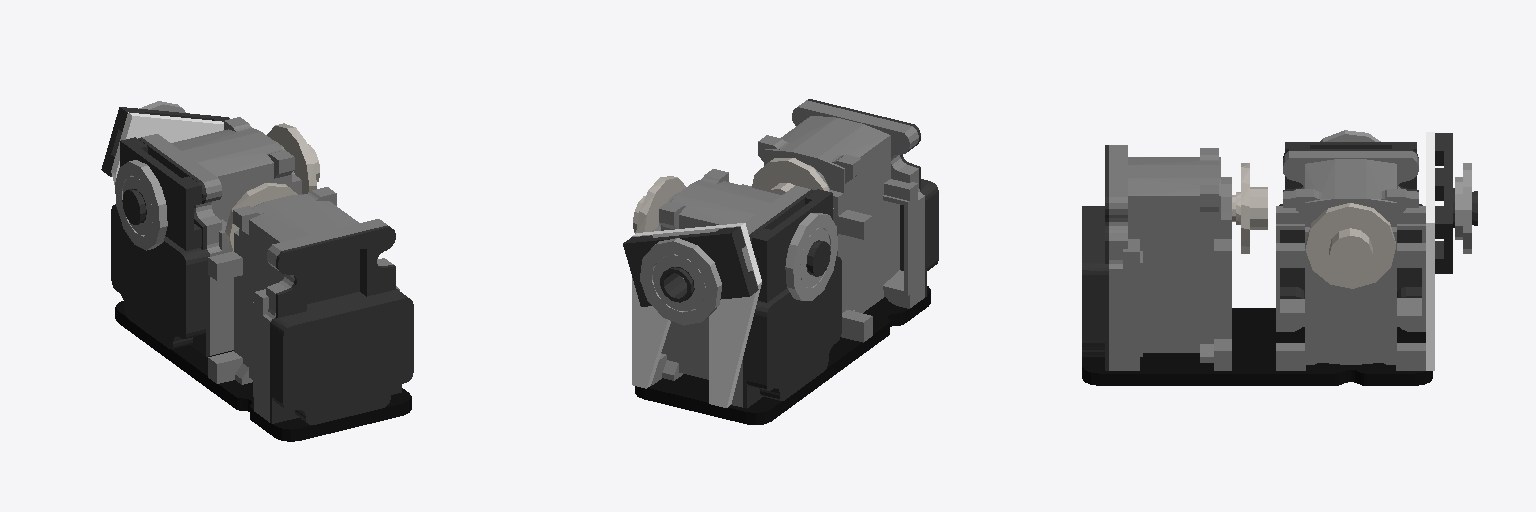
Rendered from roki2_simlify_Dual_Servo_Al_022Copyv1__1__1_mesh.obj.
3 renders of one model, left to right at view 1: azimuth 30°, elevation 25°; view 2: azimuth 150°, elevation 25°; view 3: azimuth 270°, elevation 25°, orthographic.
Parts seen in each view (by area): view 1: Body35, Body33, Body22, Body24, Body29, Body25, Body28, Body38, Body21, Body30, Body32, Body31; view 2: Body33, Body24, Body22, Body38, Body29, Body30, Body25, Body41, Body28, Body35, Body32, Body21 (+2 smaller); view 3: Body33, Body22, Body29, Body21, Body35, Body30, Body24, Body38, Body32, Body41, Body25.
Part boxes in pixels (x1,y1,x2,y2): Body35: (270,225,413,424); Body33: (208,187,399,422); Body22: (142,117,301,355); Body24: (111,137,209,356); Body29: (115,301,411,441); Body25: (120,137,201,250); Body28: (115,160,167,250); Body38: (111,112,223,184); Body21: (267,123,319,193); Body30: (101,107,229,176); Body32: (225,183,297,251); Body31: (123,176,152,234); Body33: (742,100,924,342); Body24: (743,189,841,408); Body22: (651,169,810,407); Body38: (632,223,761,407); Body29: (635,286,930,424); Body30: (623,227,758,306); Body25: (752,189,832,302); Body41: (640,238,721,325); Body28: (785,213,837,300); Body35: (808,99,938,296); Body32: (752,158,833,208); Body21: (633,176,685,233); Body33: (1109,145,1231,370); Body22: (1276,151,1425,370); Body29: (1082,308,1432,385); Body21: (1305,203,1395,288); Body35: (1082,145,1108,370); Body30: (1435,133,1477,273); Body24: (1279,149,1422,298); Body38: (1426,132,1434,370); Body32: (1232,163,1267,253); Body41: (1455,163,1471,253); Body25: (1285,142,1416,188).
Bounding box in the file's own units: 0.0451 × 0.048 × 0.0869.